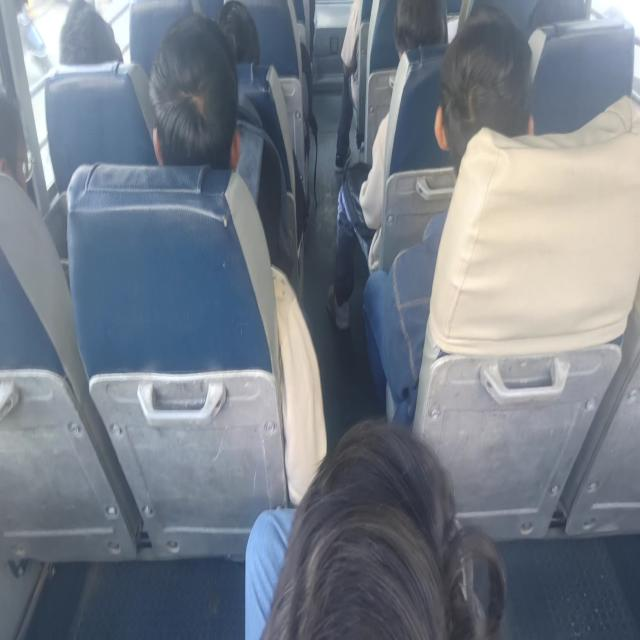person: (262, 427, 485, 640), (433, 33, 532, 186), (158, 25, 232, 164), (56, 0, 126, 65), (196, 0, 260, 71), (0, 96, 32, 193), (397, 0, 454, 53), (534, 0, 592, 46)
